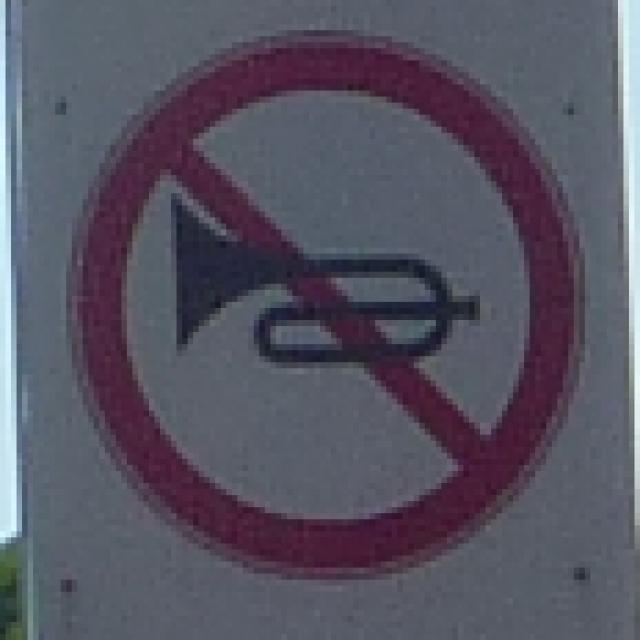No Horn: (74, 33, 584, 573)
